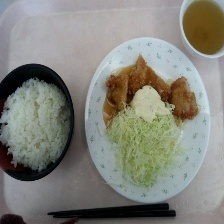rice: (102, 106, 184, 191)
